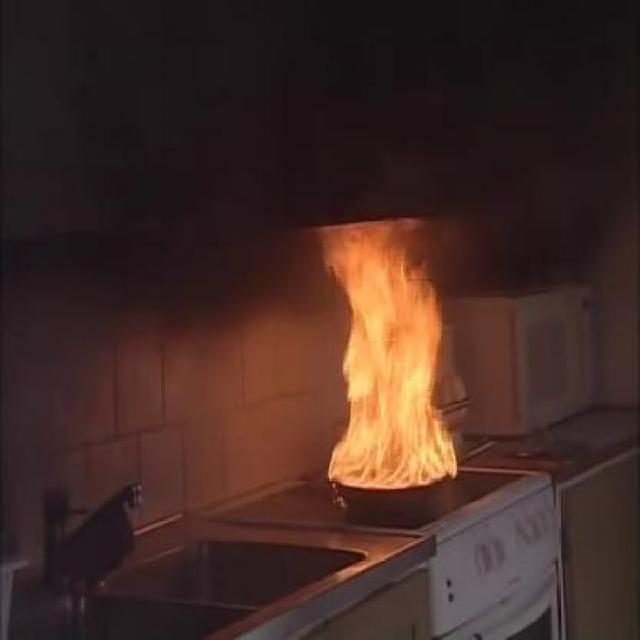fire: (330, 234, 453, 488)
smoke: (329, 126, 460, 208), (253, 249, 321, 383)
